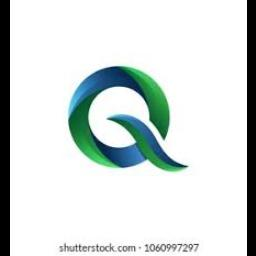q: (64, 62, 192, 180)
